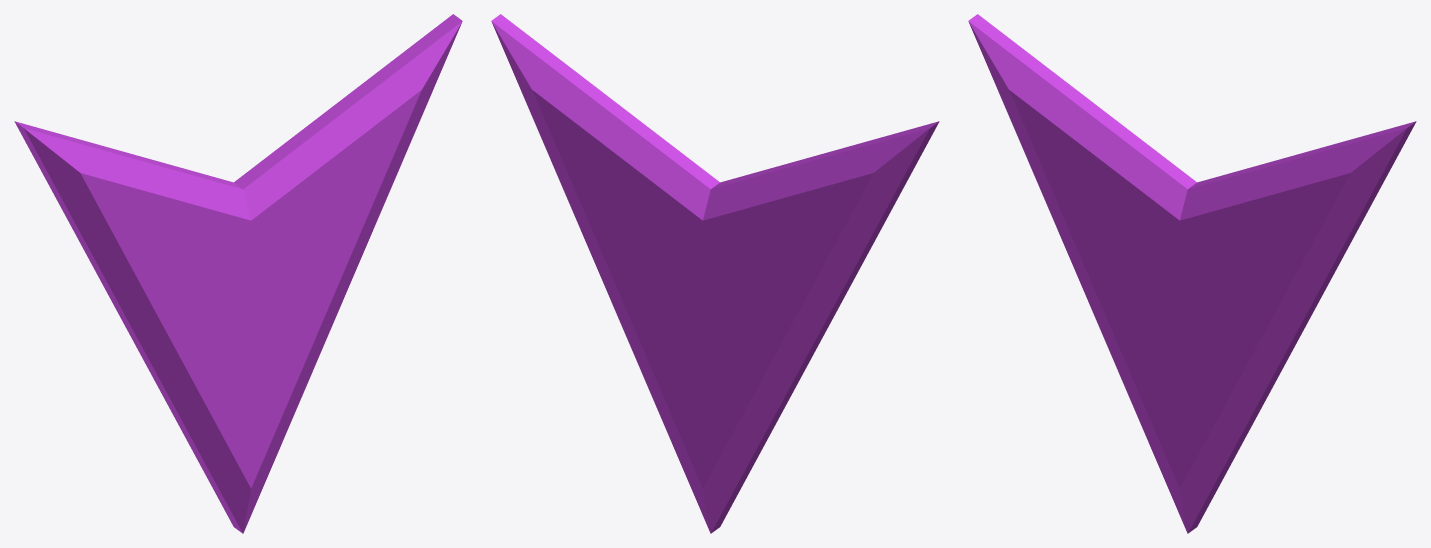
The model's file is Pointer 1.fbx.
3 views of the same model, side by side, from view 1: azimuth 30°, elevation 25°; view 2: azimuth 150°, elevation 25°; view 3: azimuth 330°, elevation 25° (orthographic).
Visible parts, largest first — view 1: Line002; view 2: Line002; view 3: Line002.
Part boxes in pixels (x1,y1,x2,y2): Line002: (14, 14, 462, 533); Line002: (491, 14, 939, 533); Line002: (968, 14, 1416, 533).
Bounding box in the file's own units: 80 × 80 × 8.
